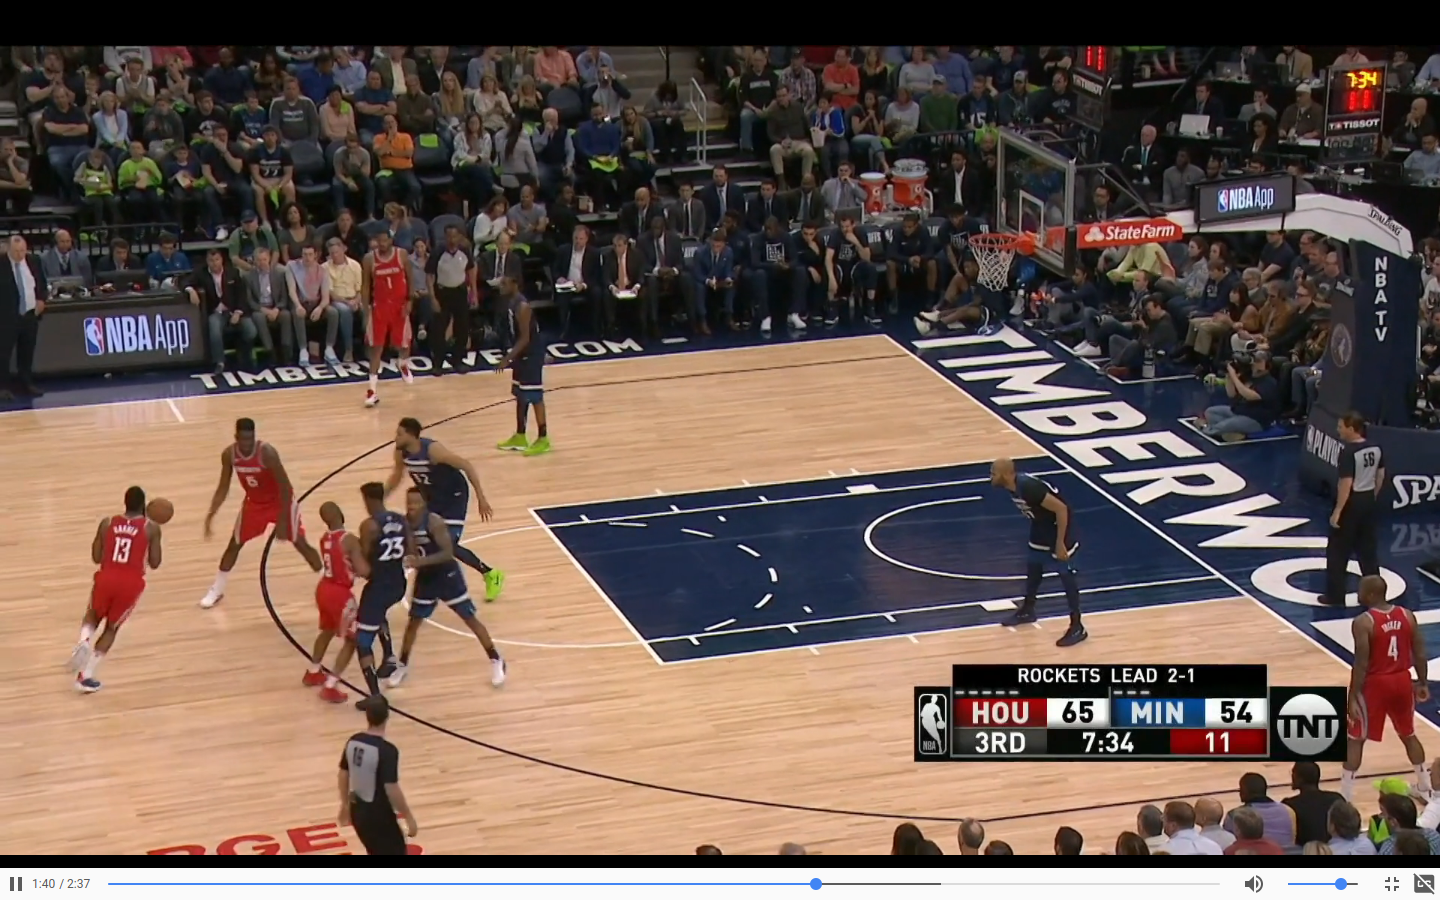ball: (149, 499, 174, 524)
player: (65, 486, 162, 700), (992, 460, 1099, 645), (405, 497, 496, 702), (224, 419, 313, 615), (356, 484, 402, 692), (498, 283, 549, 460), (368, 246, 419, 410), (319, 504, 360, 681), (394, 424, 487, 497)
referee: (343, 701, 422, 854)
